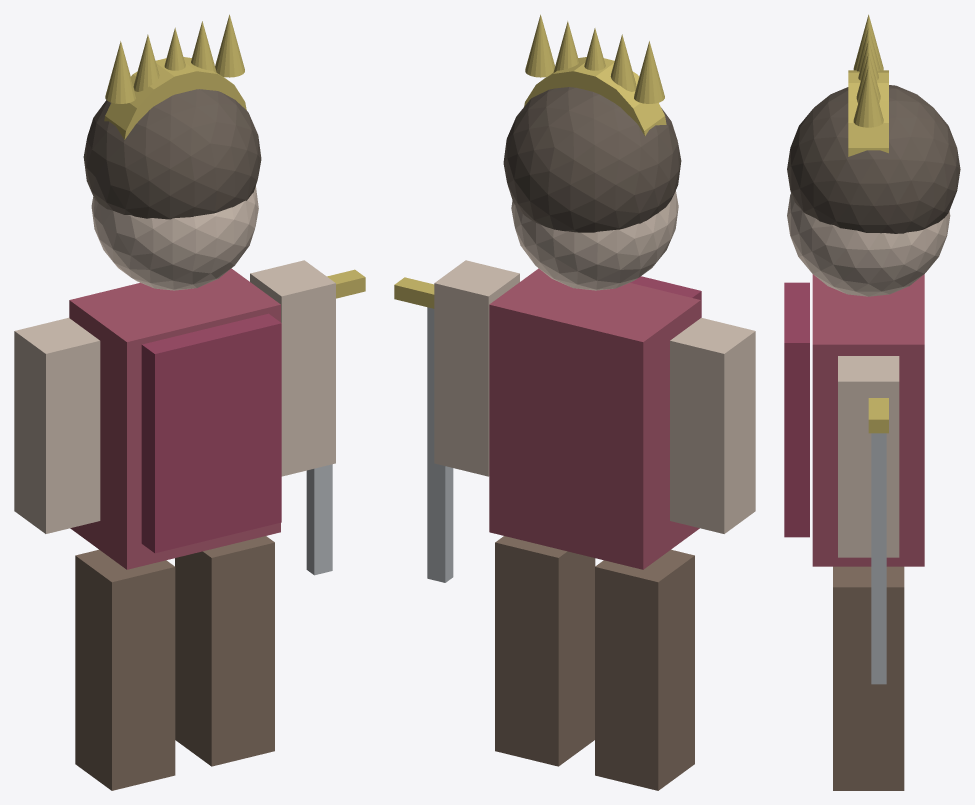
The model's file is king.glb.
3 renders of one model, left to right at view 1: azimuth 30°, elevation 25°; view 2: azimuth 150°, elevation 25°; view 3: azimuth 270°, elevation 25°, orthographic. The views are drawn at different scales.
Parts seen in each view (by area): view 1: g13, g4, g5, g0, g6, g2, g3, g1, g7, g14, g8, g12 (+3 smaller); view 2: g0, g4, g5, g6, g2, g3, g1, g14, g7, g8, g12, g15 (+3 smaller); view 3: g0, g6, g5, g3, g1, g13, g14, g7, g12, g15, g8, g11.
Part boxes in pixels (x1,y1,x2,y2): g13: (141,313,281,553); g4: (75,549,175,790); g5: (175,536,274,766); g0: (69,268,280,569); g6: (83,89,261,219); g2: (14,317,100,533); g3: (250,260,335,476); g1: (91,186,258,290); g7: (104,57,246,139); g14: (306,464,332,575); g8: (105,41,136,103); g12: (215,14,244,77); g0: (489,268,700,569); g4: (595,549,694,790); g5: (495,536,595,766); g6: (503,87,681,232); g2: (670,318,755,533); g3: (434,260,519,476); g1: (511,190,678,290); g14: (427,307,453,582); g7: (524,57,666,135); g8: (634,41,664,103); g12: (525,14,554,77); g15: (394,277,434,308); g0: (812,274,924,566); g6: (787,85,960,233); g5: (833,566,904,790); g3: (838,356,899,557); g1: (787,193,950,296); g13: (784,282,809,537); g14: (871,433,886,684); g7: (848,70,888,156); g12: (853,66,883,127); g15: (868,398,888,433); g8: (853,14,883,70); g11: (856,53,880,103).
Size of the model in its own units: 0.8732 by 1.82 by 0.4071.
